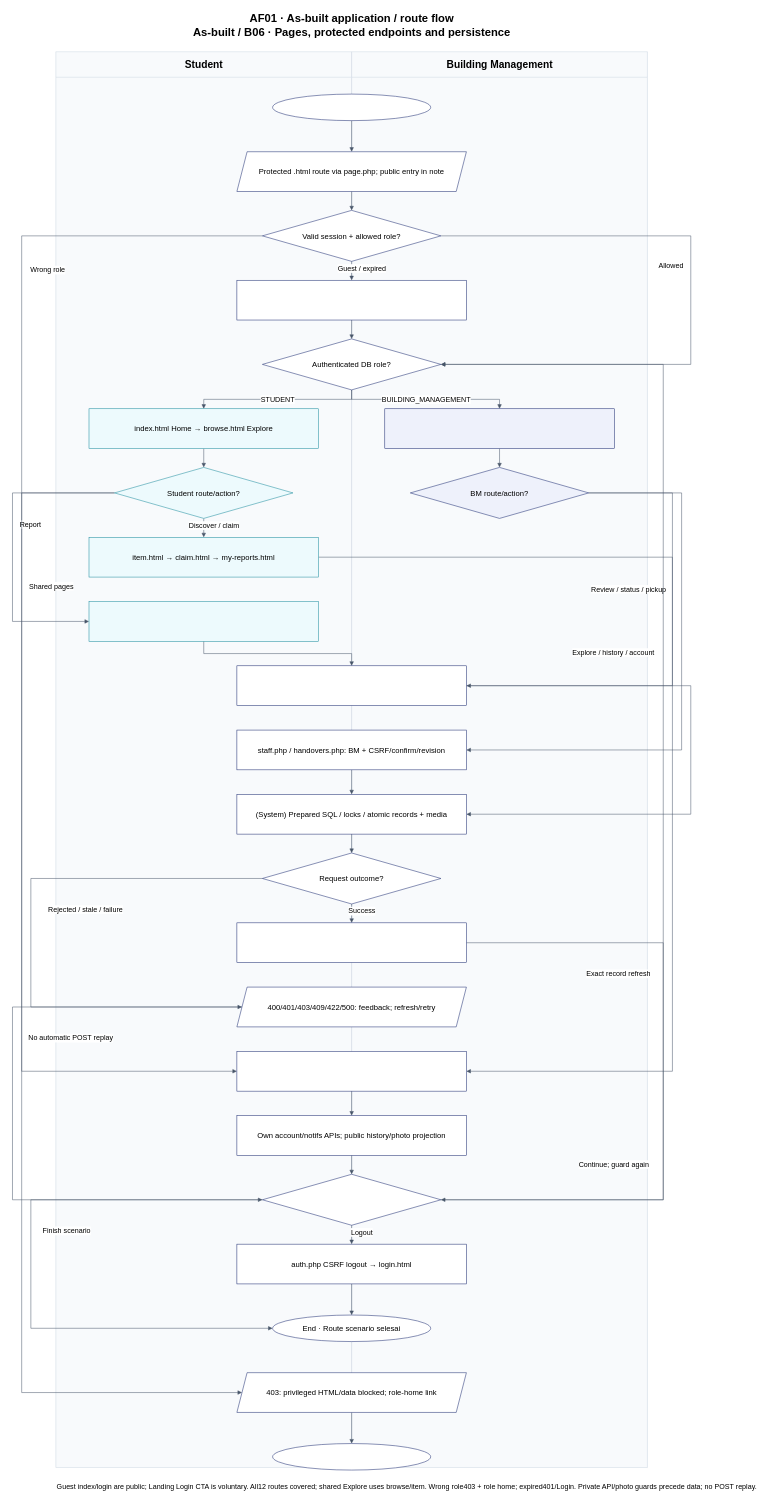
The diagram is 766 pixels wide and 1510 high, and some of its shapes have lost their labels. The shapes that lost their labels are listed below. From the top down, each one's centre as x and y in pixels, then its label:
At (351,107): "Start".
At (351,300): "login.html → session.php + auth.php → safe return (FC01)".
At (499,428): "admin.html: Claims / Reports / Handover tabs".
At (203,621): "report.html: Lost/Found/create/eligible edit".
At (351,685): "items.php / claims.php: own object + eligibility/CSRF".
At (351,942): "Commit → refresh exact detail/activity/notifications".
At (351,1071): "history.html / notifications.html / profile.html / settings.html".
At (351,1199): "Next navigation?".
At (351,1456): "End · Forbidden route rejected".
